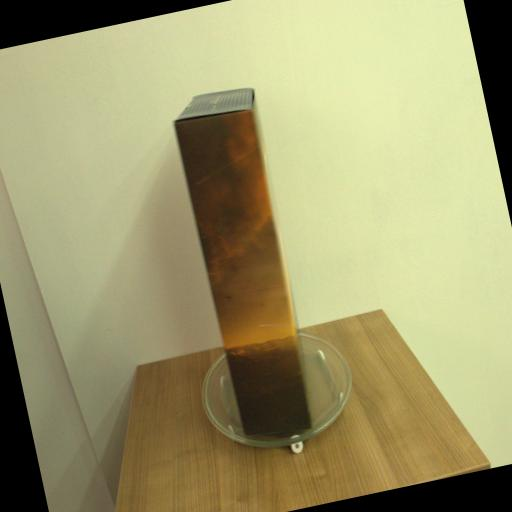superman: (168, 83, 326, 446)
